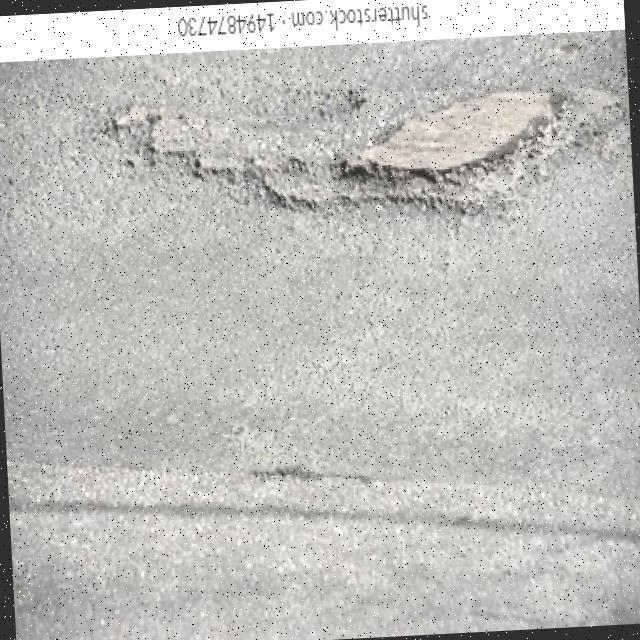Pothole: (118, 91, 591, 214)
